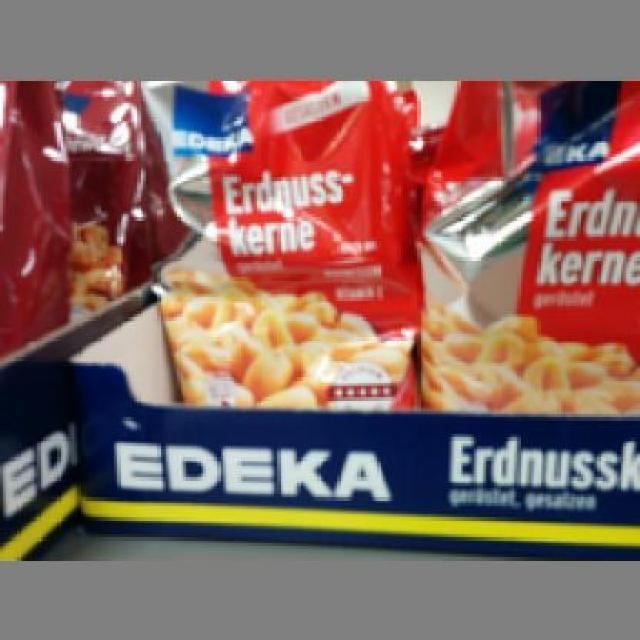Nuts: (137, 73, 414, 410), (414, 77, 637, 412)
